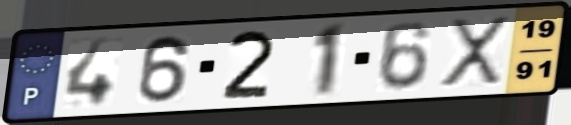1: (310, 21, 353, 101)
2: (221, 28, 278, 100)
4: (62, 35, 120, 109)
6: (136, 33, 194, 106), (377, 19, 434, 93)
X: (436, 14, 512, 89)
